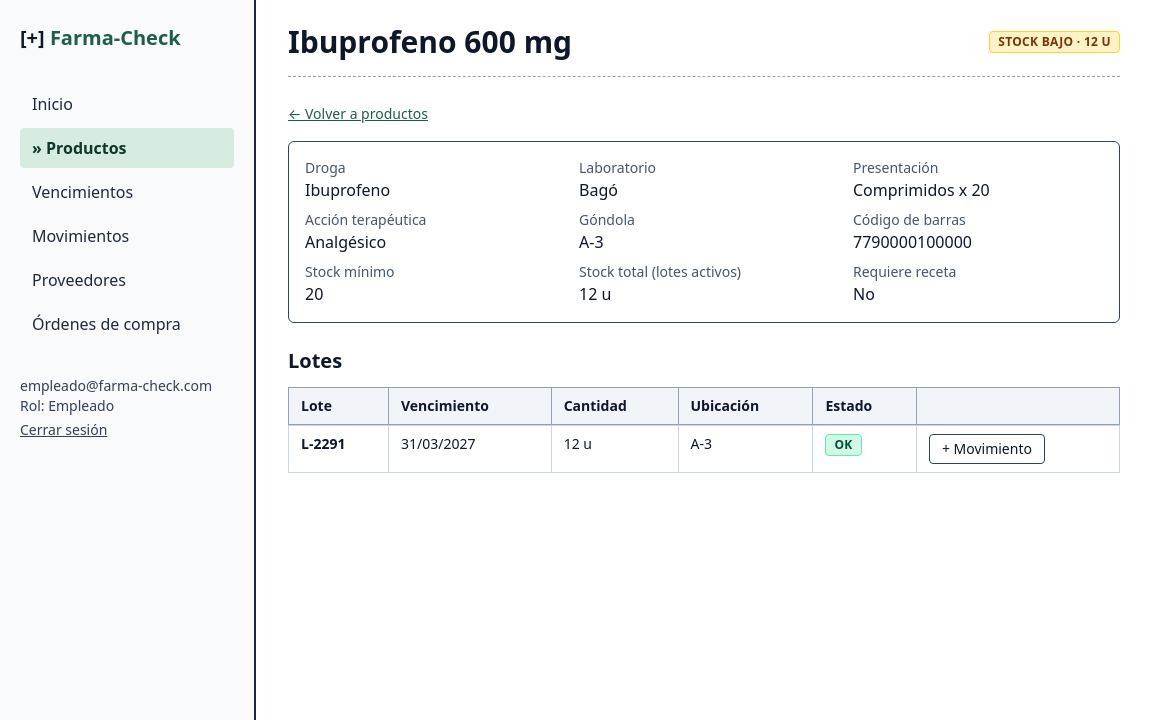
Test: Registrar movimiento › deshabilita el botón y muestra "Guardando…" mientras se envía
Step 1. Click the button with aria-label "Registrar movimiento en el lote L-2291" → (987, 449), box [929, 434, 1045, 464]
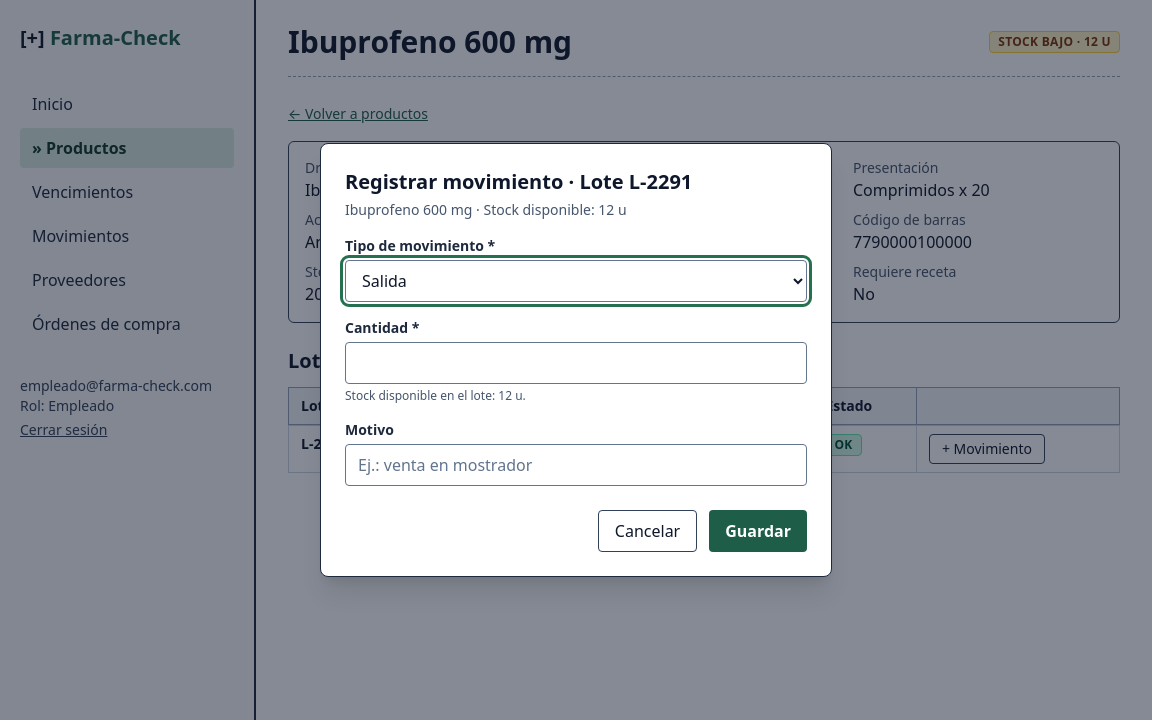
Step 2. Type "1" into the number field labelled "Cantidad *" → (576, 363), box [345, 342, 807, 384]
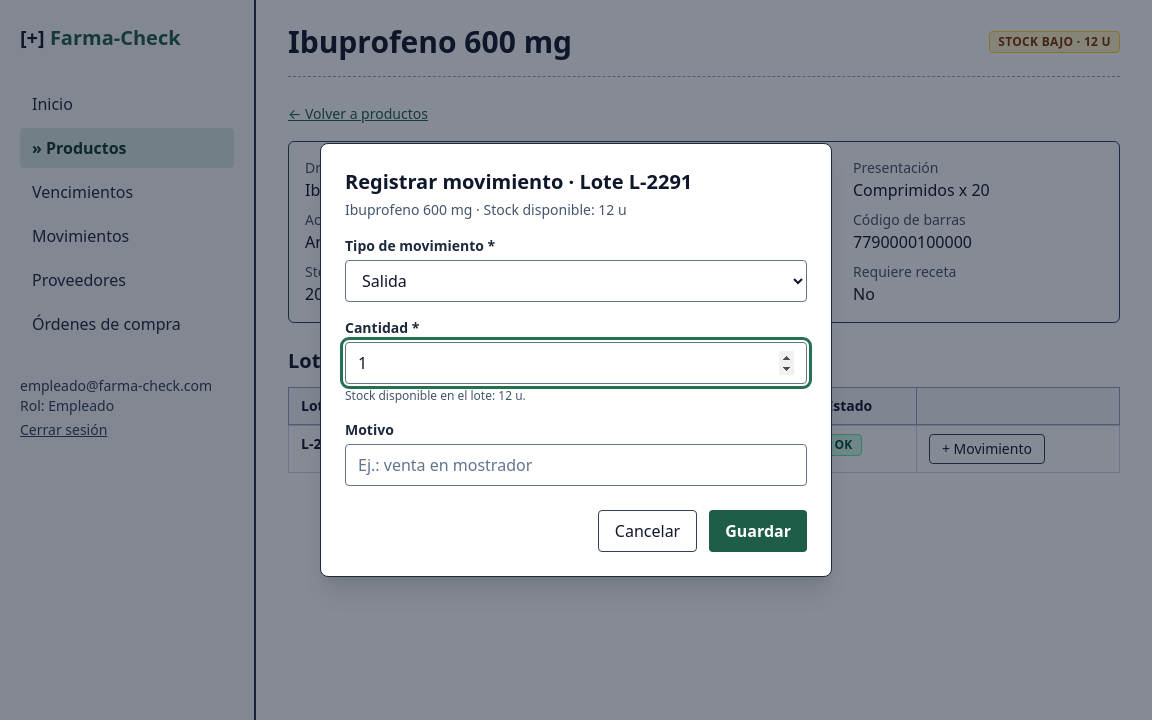
Step 3. Click the button "Guardar" → (758, 531), box [709, 510, 807, 552]
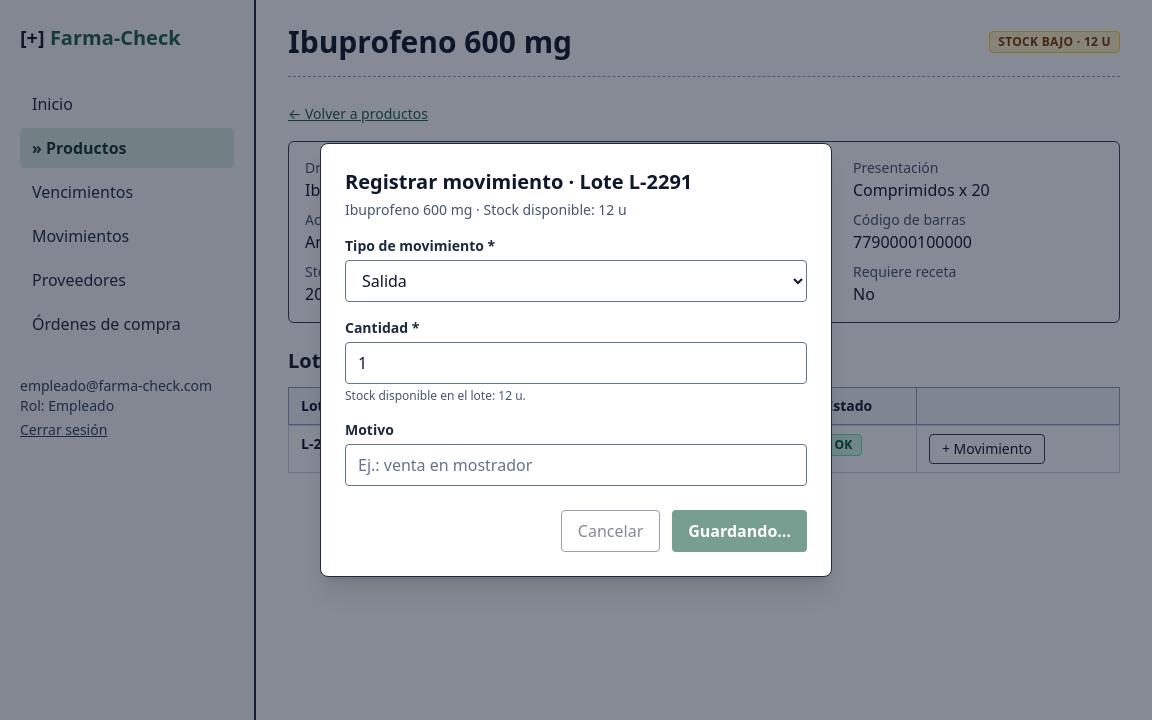
Expected: the button "Guardando…" is disabled, [672, 510, 807, 552]
